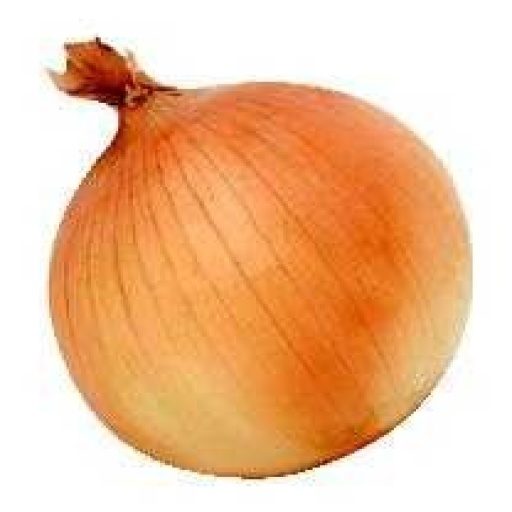Zwiebel: (44, 37, 473, 479)
